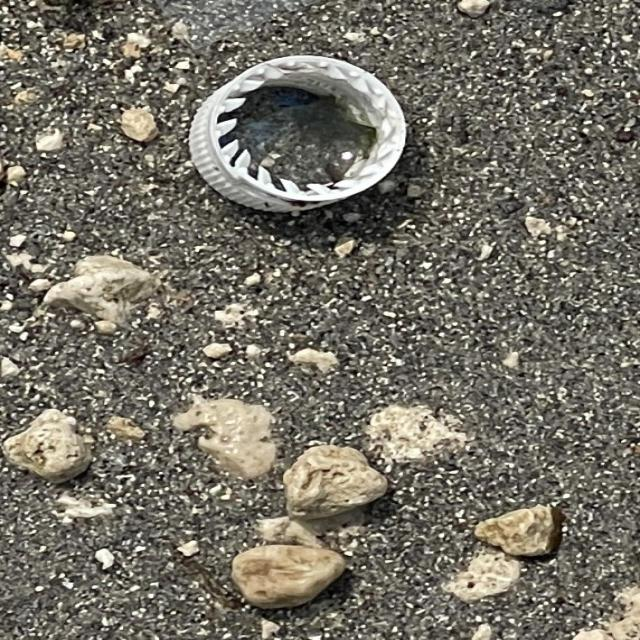plastic_waste: (188, 56, 408, 215)
